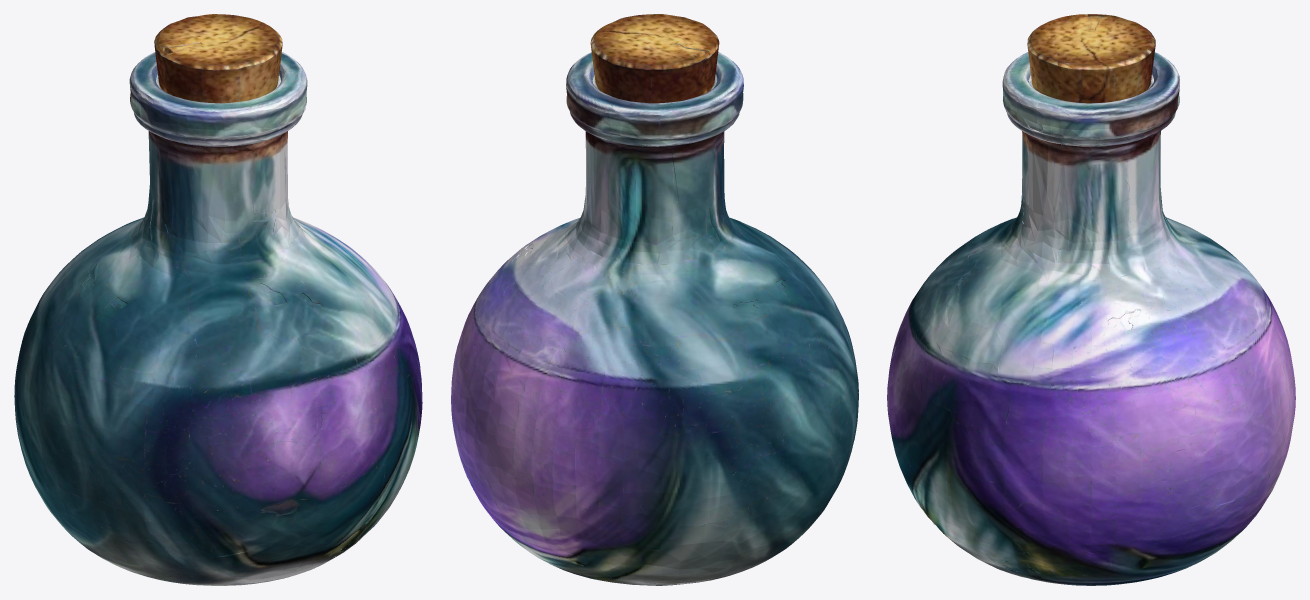
The model's file is dress-flask.glb.
The picture shows the model from 3 angles, left to right: view 1: azimuth 30°, elevation 25°; view 2: azimuth 150°, elevation 25°; view 3: azimuth 270°, elevation 25°; orthographic projection.
Size of the model in its own units: 0.7437 by 1 by 0.7444.
1 material, 1 textured.
